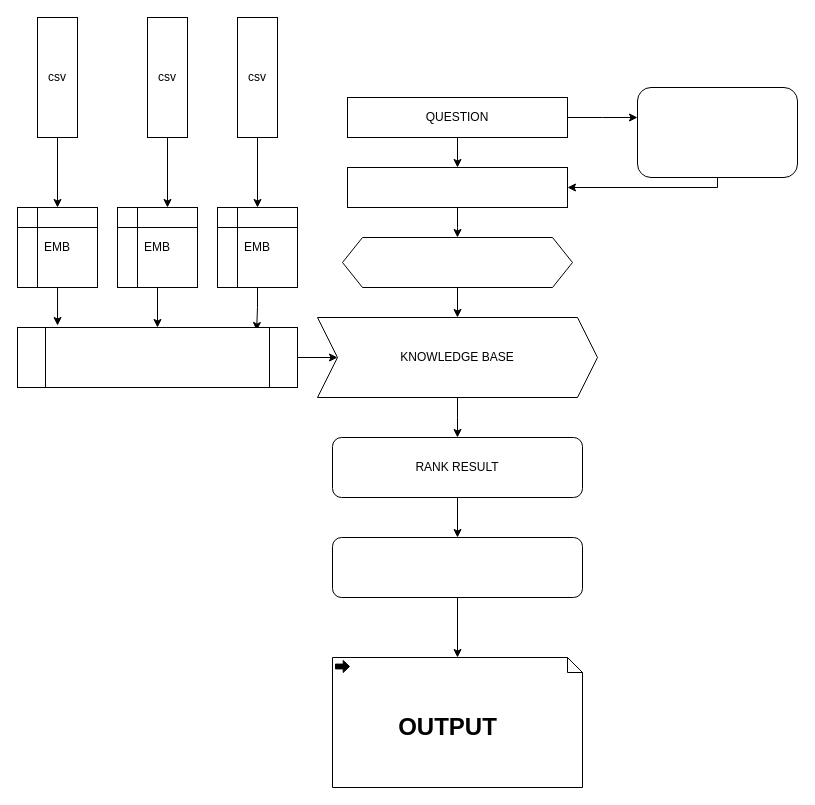
The diagram is 815 pixels wide and 805 high, and some of its shapes have lost their labels. The box of each missing label's shape, as (x1, y1, x2, y2) in pixels:
EMBEDING API GPT-4 MODEL: (636, 86, 798, 178)
LLM MODEL: (332, 536, 582, 598)
QUERY EMBD: (346, 166, 568, 208)
SEMANTIC INDEX: (16, 326, 298, 388)
SEMANTIC SEARCH: (342, 236, 572, 288)
